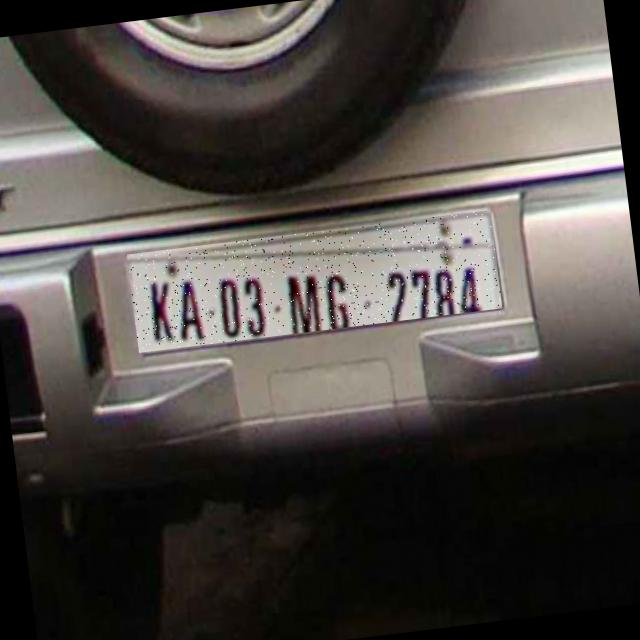Plate: (128, 211, 503, 354)
